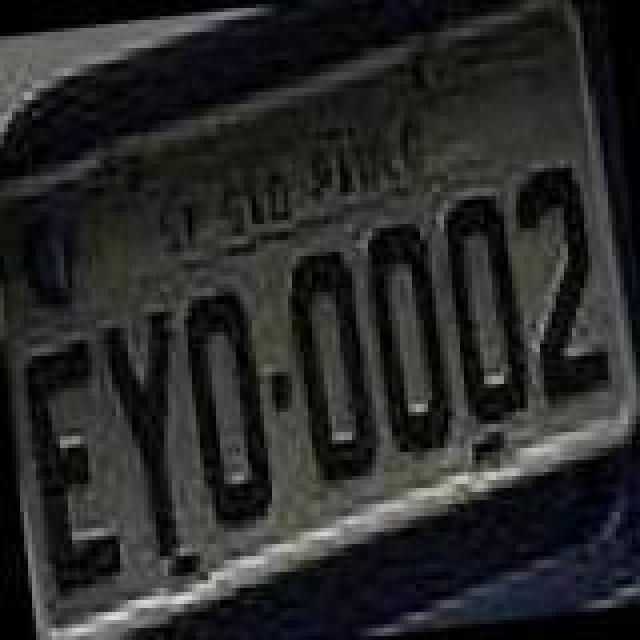2: (504, 154, 616, 406)
E: (14, 330, 130, 598)
O: (272, 242, 384, 494), (174, 282, 282, 534), (356, 214, 460, 458), (432, 190, 536, 434)
Y: (92, 300, 204, 564)
